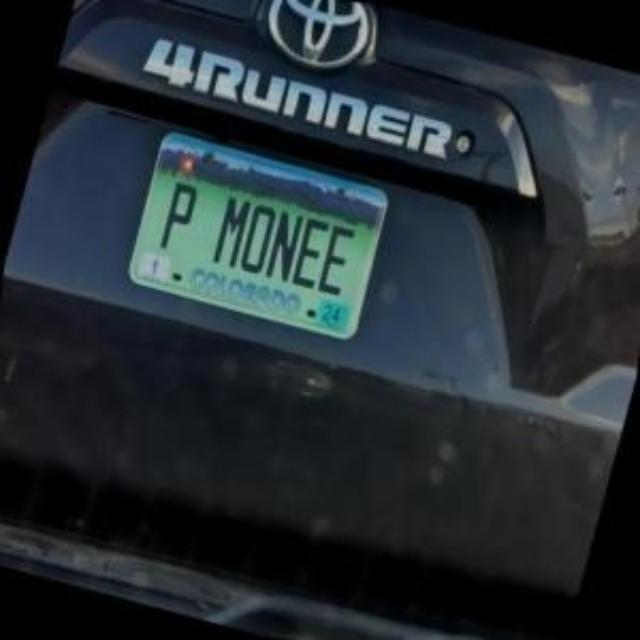License Plate: (122, 129, 392, 345)
